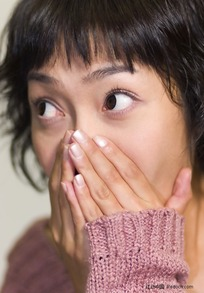face: (26, 11, 180, 227)
